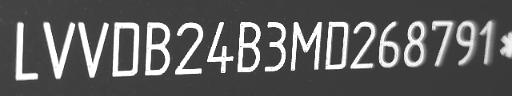letter: (41, 20, 77, 80), (74, 20, 110, 78), (288, 19, 324, 75), (109, 20, 141, 78), (204, 19, 236, 73), (172, 21, 204, 75), (144, 18, 172, 78), (13, 19, 39, 81), (349, 18, 377, 72), (323, 19, 351, 73), (234, 20, 262, 74), (400, 18, 428, 69), (429, 18, 455, 72), (264, 19, 288, 75), (454, 19, 478, 71), (378, 19, 402, 71), (478, 17, 496, 70)
